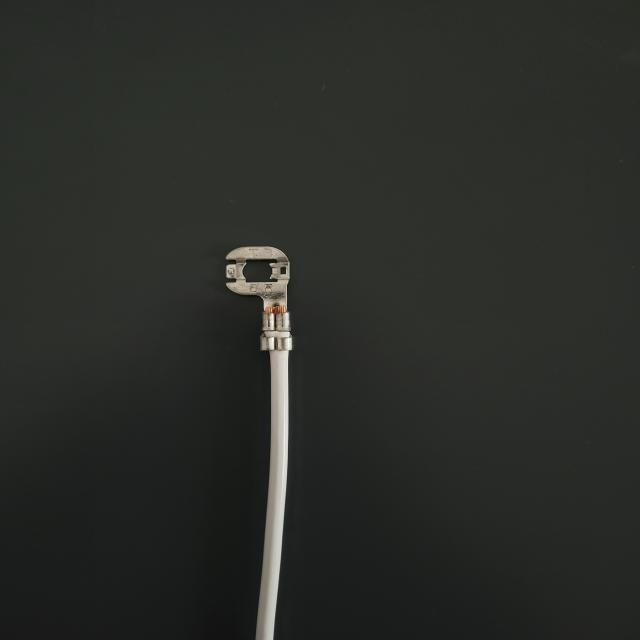good: (8, 6, 640, 639)
